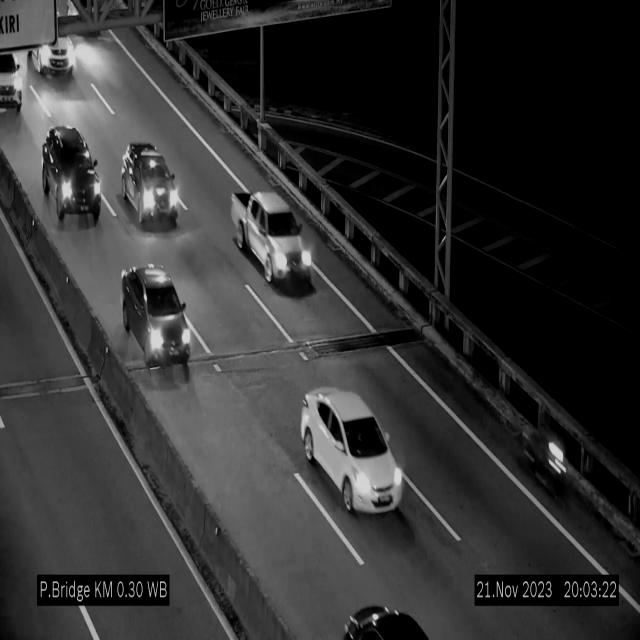Car: (299, 384, 406, 522), (229, 185, 314, 289), (119, 260, 194, 372), (40, 121, 101, 228), (122, 142, 180, 227), (23, 13, 85, 84), (0, 28, 32, 124)
Motorcycle: (519, 404, 567, 511)
